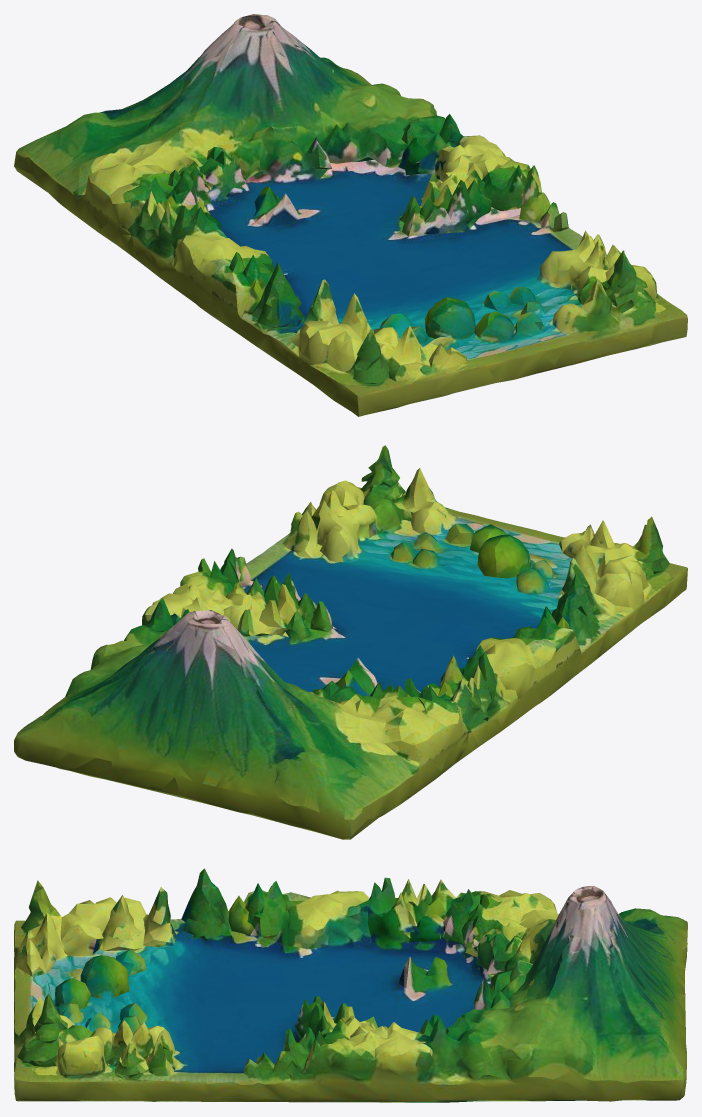
Rendered from lake-akan.glb.
The picture shows the model from 3 angles, top to bottom: view 1: azimuth 30°, elevation 25°; view 2: azimuth 150°, elevation 25°; view 3: azimuth 270°, elevation 25°; orthographic projection. The views are drawn at different scales.
Parts seen in each view (by area): view 1: logan-textured.obj; view 2: logan-textured.obj; view 3: logan-textured.obj.
Boxes of the visible parts, <box> form: logan-textured.obj: <box>14,14,687,416</box>; logan-textured.obj: <box>14,445,687,839</box>; logan-textured.obj: <box>14,868,687,1102</box>.
Size of the model in its own units: 0.586 by 0.2265 by 1.
Materials: 1 (1 with a texture image).
